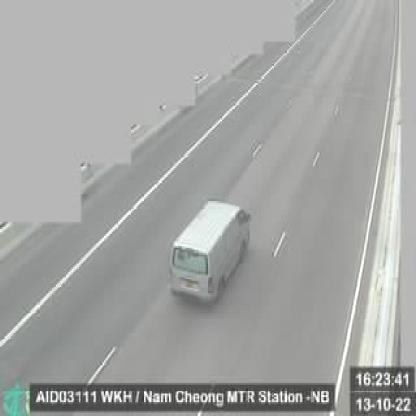Car: (167, 197, 252, 308)
